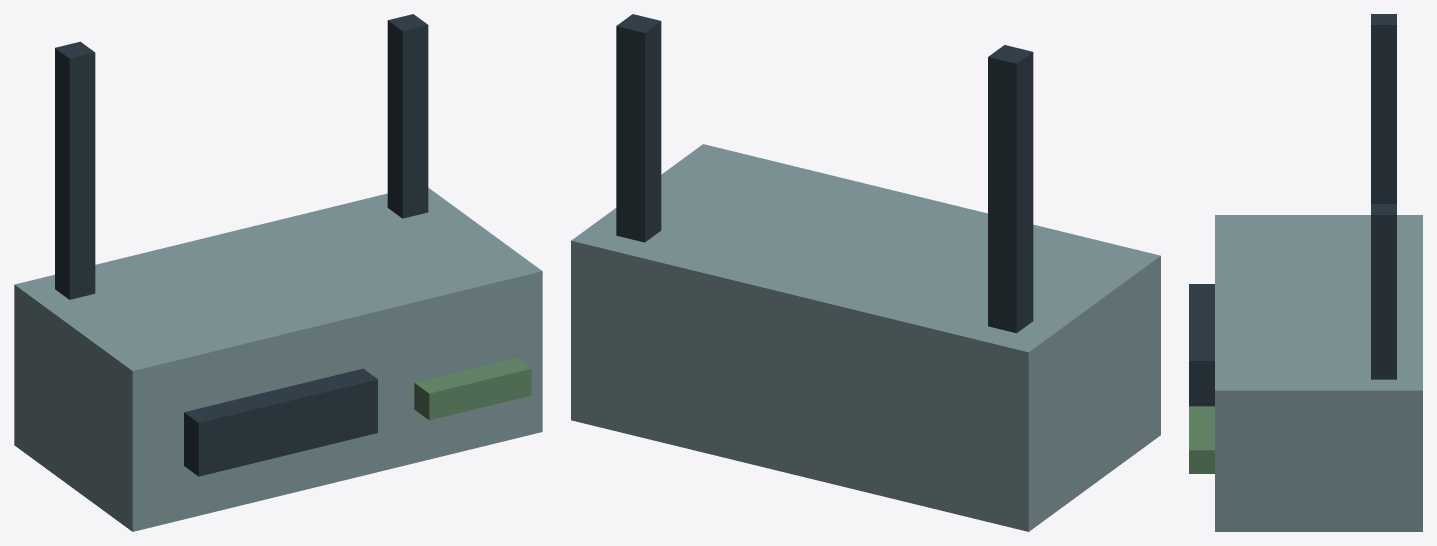
File: iot-02.glb
3 views of the same model, side by side, from view 1: azimuth 30°, elevation 25°; view 2: azimuth 150°, elevation 25°; view 3: azimuth 270°, elevation 25° (orthographic). The views are drawn at different scales.
Parts seen in each view (by area): view 1: Home hub; view 2: Home hub; view 3: Home hub.
Part boxes in pixels (<box>): Home hub: <box>14,14,542,531</box>; Home hub: <box>571,14,1160,531</box>; Home hub: <box>1189,14,1422,531</box>.
Bounding box in the file's own units: 1.28 × 1.2 × 0.72.
